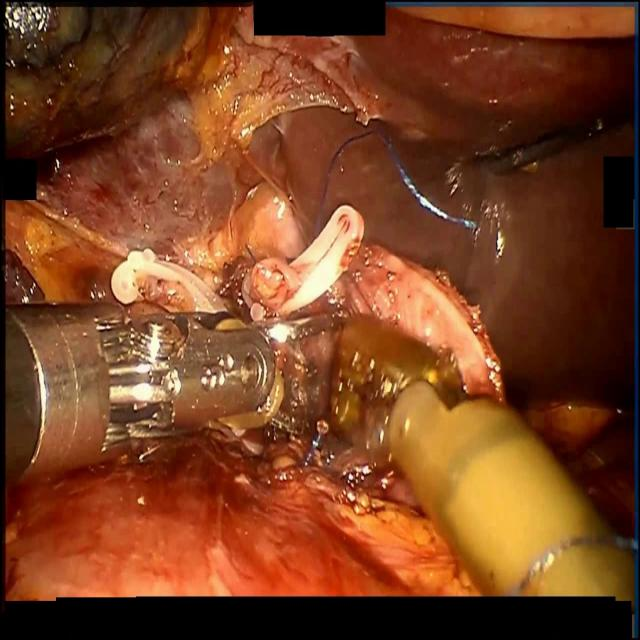surgical-area: (2, 0, 638, 601)
surgical-tool: (388, 376, 635, 596), (4, 303, 272, 487)
